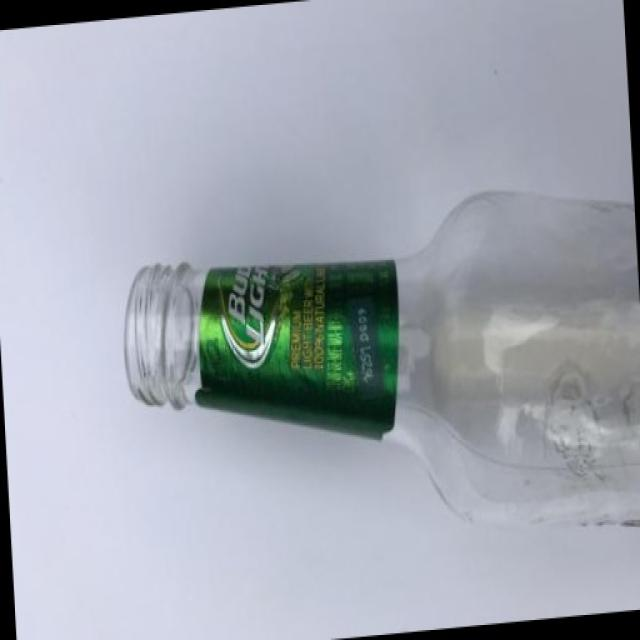vidrio: (103, 156, 640, 564)
